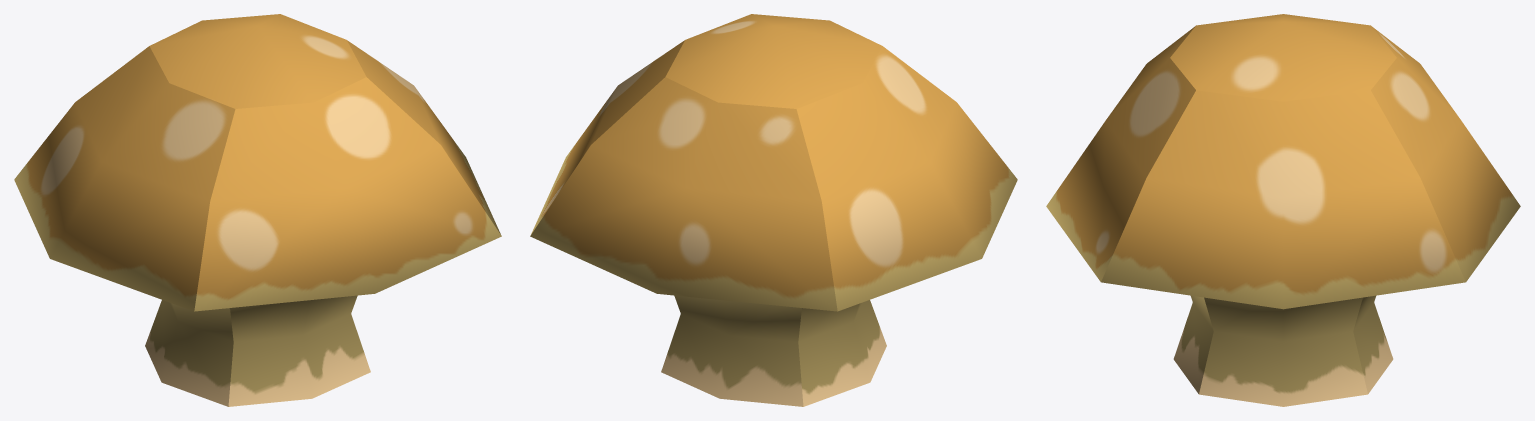
File: mushroom2.FBX
The picture shows the model from 3 angles, left to right: view 1: azimuth 30°, elevation 25°; view 2: azimuth 150°, elevation 25°; view 3: azimuth 270°, elevation 25°; orthographic projection.
Visible parts, largest first — view 1: Box001; view 2: Box001; view 3: Box001.
Boxes of the visible parts, left/top/right/bottom form: Box001: left=14, top=14, right=501, bottom=406; Box001: left=530, top=14, right=1017, bottom=406; Box001: left=1046, top=14, right=1520, bottom=406.
Size of the model in its own units: 7.12 by 5.44 by 6.94.
